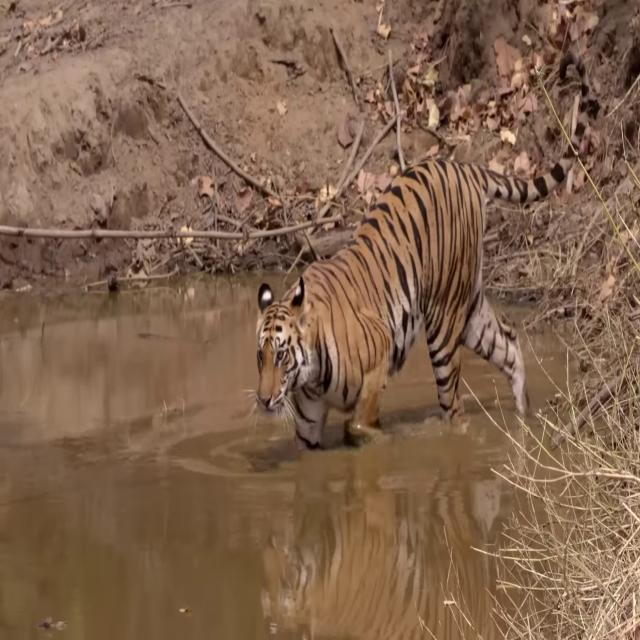tiger: (243, 48, 590, 451)
